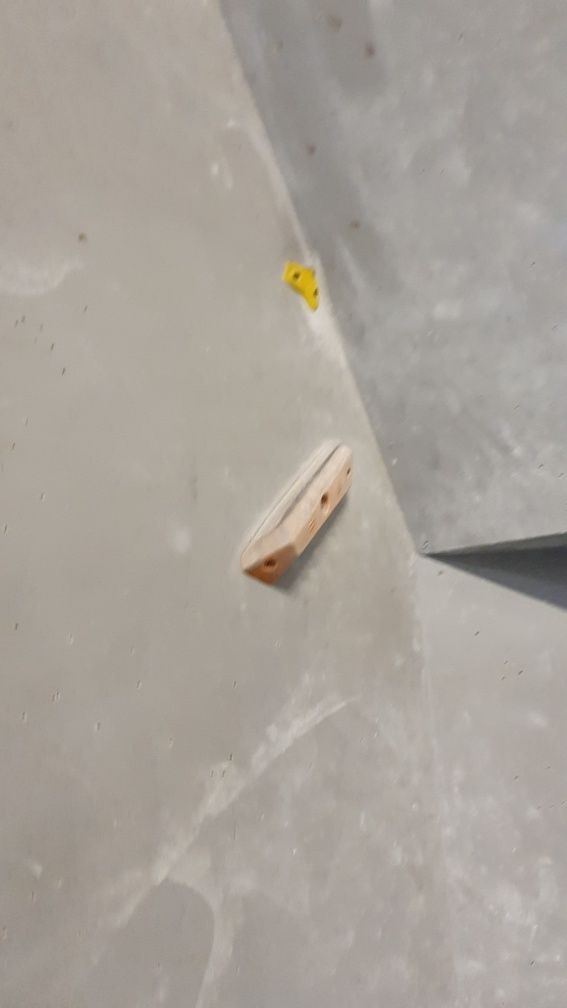Pinch: (241, 440, 358, 592)
